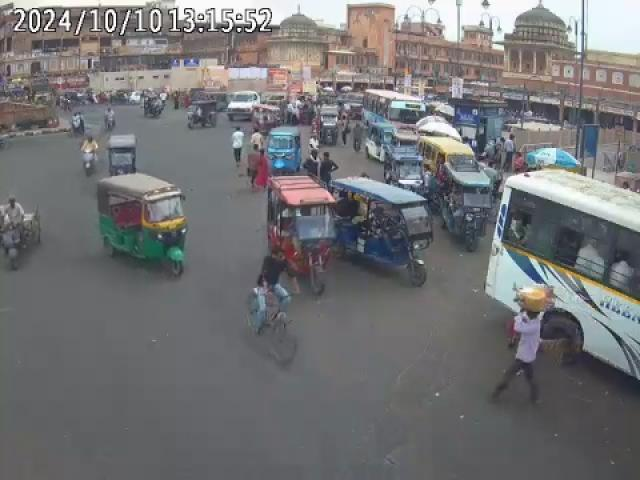auto: (328, 174, 433, 286), (94, 171, 190, 276), (262, 172, 336, 296), (440, 167, 494, 250), (383, 136, 424, 188), (266, 126, 303, 174), (362, 120, 398, 160), (108, 134, 140, 176), (319, 107, 342, 146)
bicycle-rider: (247, 242, 302, 368)
bus: (486, 168, 640, 384), (360, 88, 425, 140)
car: (228, 91, 263, 120)
motorbike-rider: (70, 111, 86, 136)
person: (506, 287, 548, 407), (246, 148, 268, 190), (228, 128, 246, 163), (104, 108, 118, 132)
rickshow: (0, 196, 42, 272)
scooty-rider: (78, 135, 99, 174)
